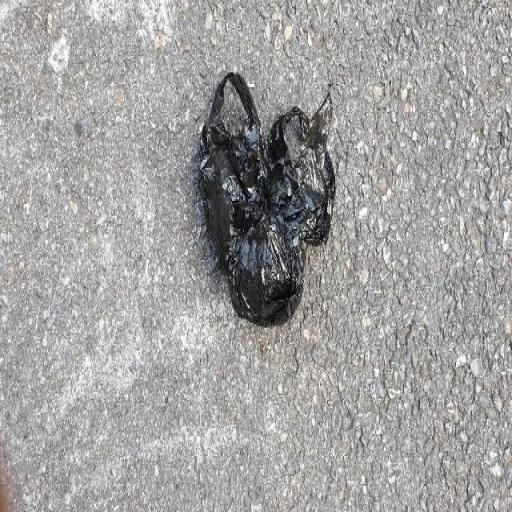plastic-bag: (196, 66, 338, 330)
